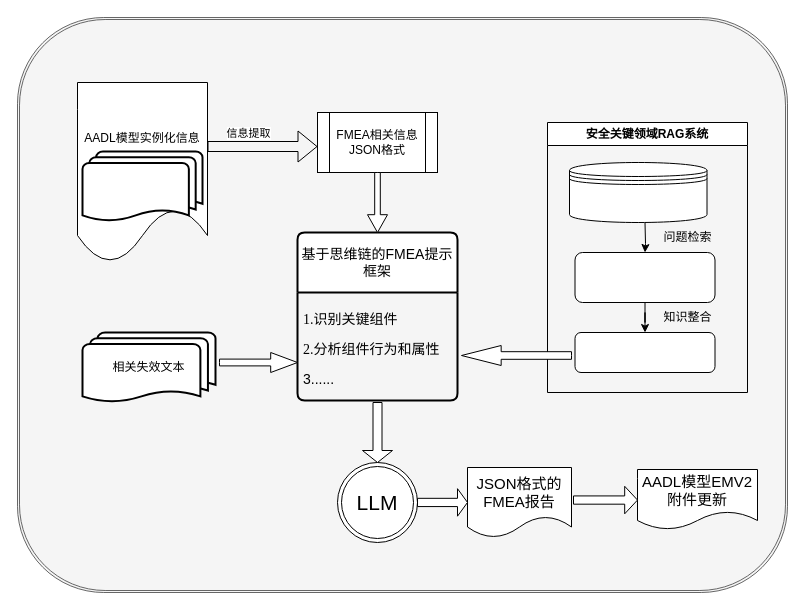
The diagram is 805 pixels wide and 610 high, and some of its shapes have lost their labels. The shapes that lost their labels are listed below. From the top down, each one's centre as x and y in pixels, then its label:
[142,186]: name. category .....
[637,192]: 安全关键领域知识库搭建
[644,277]: 安全关键领域知识检索
[644,352]: 安全关键领域相关知识
